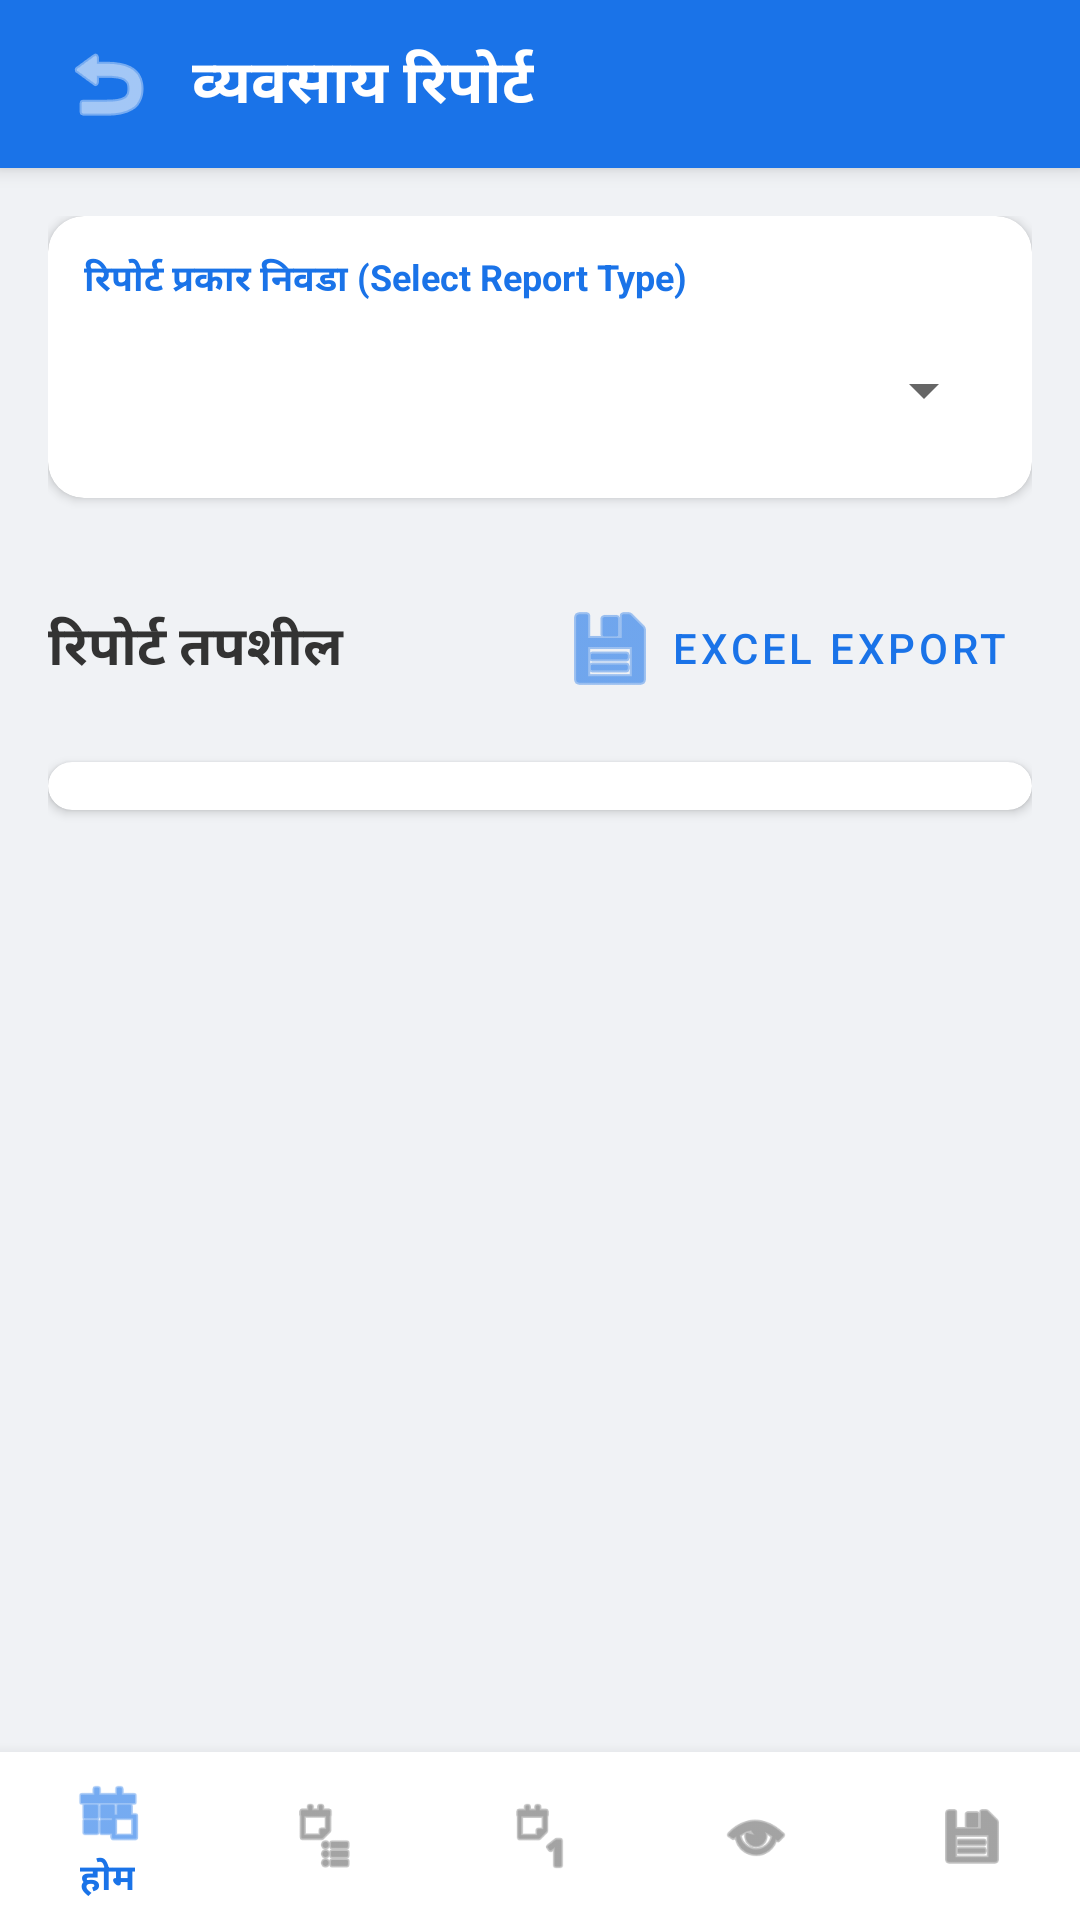

Icons on this 1080×1920 Android screen, each with the point to tap as (x=x, y=y):
revert: (x=109, y=84)
